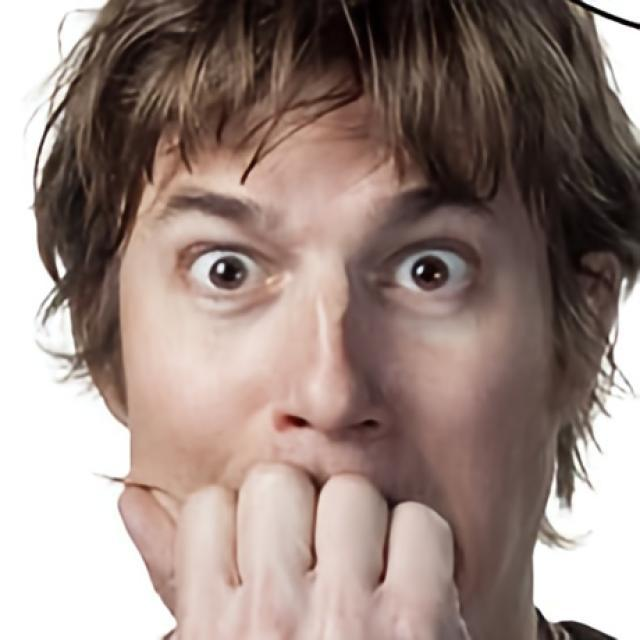fear: (119, 68, 562, 640)
